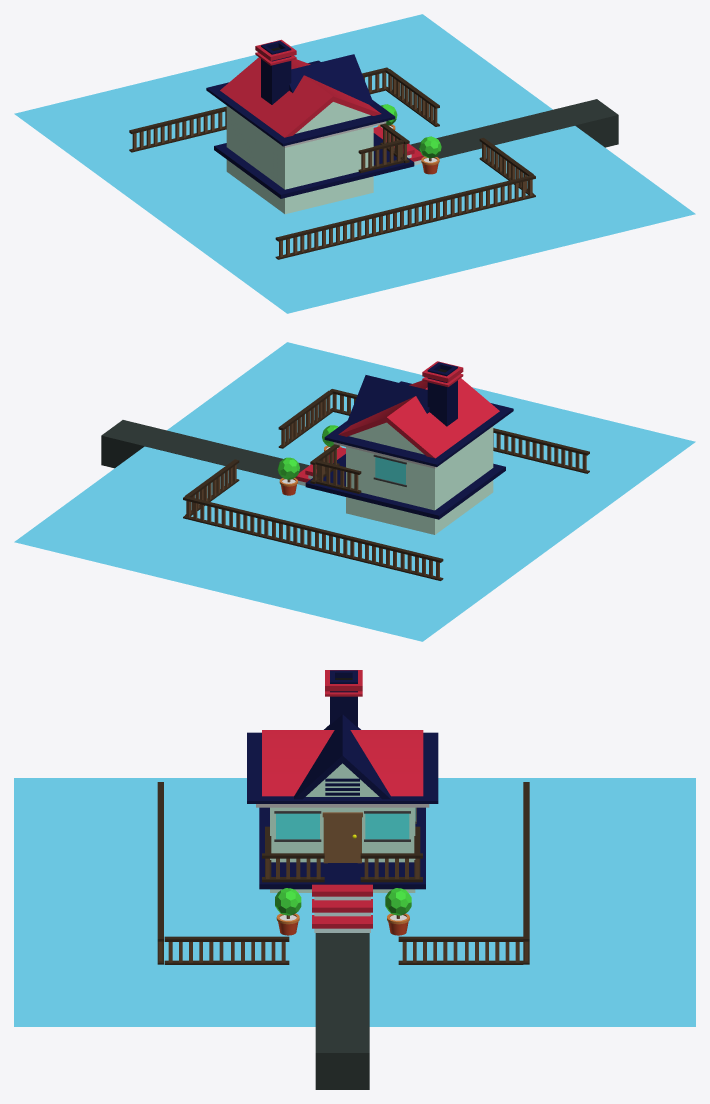
File: casitachim.dae
3 views of the same model, one above another, from view 1: azimuth 30°, elevation 25°; view 2: azimuth 150°, elevation 25°; view 3: azimuth 270°, elevation 25° (orthographic). The views are drawn at different scales.
Parts seen in each view (by area): view 1: Plane.3, housebody, Cube.5 (×2), camino, piso, techo, Tube, Cube.9; view 2: Plane.3, housebody, Cube.5 (×2), camino, piso, techo, Tube, Cube.9, Cube.7; view 3: Plane.3, Cube.5 (×6), camino, piso, techo, housebody, Cube.7 (×2), Cube.6, Tube, techo2.
Part boxes in pixels (x1=…): Plane.3: x1=14, y1=14, x2=695, y2=313; housebody: x1=226, y1=106, x2=373, y2=214; Cube.5 (×2): x1=220, y1=54, x2=381, y2=137; camino: x1=410, y1=99, x2=618, y2=158; piso: x1=214, y1=133, x2=414, y2=198; techo: x1=206, y1=60, x2=395, y2=146; Tube: x1=261, y1=40, x2=291, y2=104; Cube.9: x1=295, y1=102, x2=370, y2=133; Plane.3: x1=14, y1=342, x2=695, y2=641; housebody: x1=346, y1=426, x2=493, y2=534; Cube.5 (×2): x1=338, y1=375, x2=499, y2=458; camino: x1=101, y1=420, x2=308, y2=479; piso: x1=305, y1=454, x2=505, y2=519; techo: x1=324, y1=381, x2=513, y2=466; Tube: x1=427, y1=362, x2=457, y2=426; Cube.9: x1=349, y1=422, x2=424, y2=454; Cube.7: x1=375, y1=457, x2=405, y2=484; Plane.3: x1=14, y1=778, x2=695, y2=1026; Cube.5 (×6): x1=262, y1=714, x2=423, y2=928; camino: x1=315, y1=933, x2=369, y2=1089; piso: x1=259, y1=807, x2=425, y2=889; techo: x1=247, y1=732, x2=438, y2=803; housebody: x1=270, y1=807, x2=415, y2=892; Cube.7 (×2): x1=276, y1=813, x2=409, y2=839; Cube.6: x1=328, y1=817, x2=357, y2=862; Tube: x1=330, y1=670, x2=357, y2=727; techo2: x1=256, y1=804, x2=429, y2=807.
Size of the model in its own units: 3205 by 1150 by 3355.
